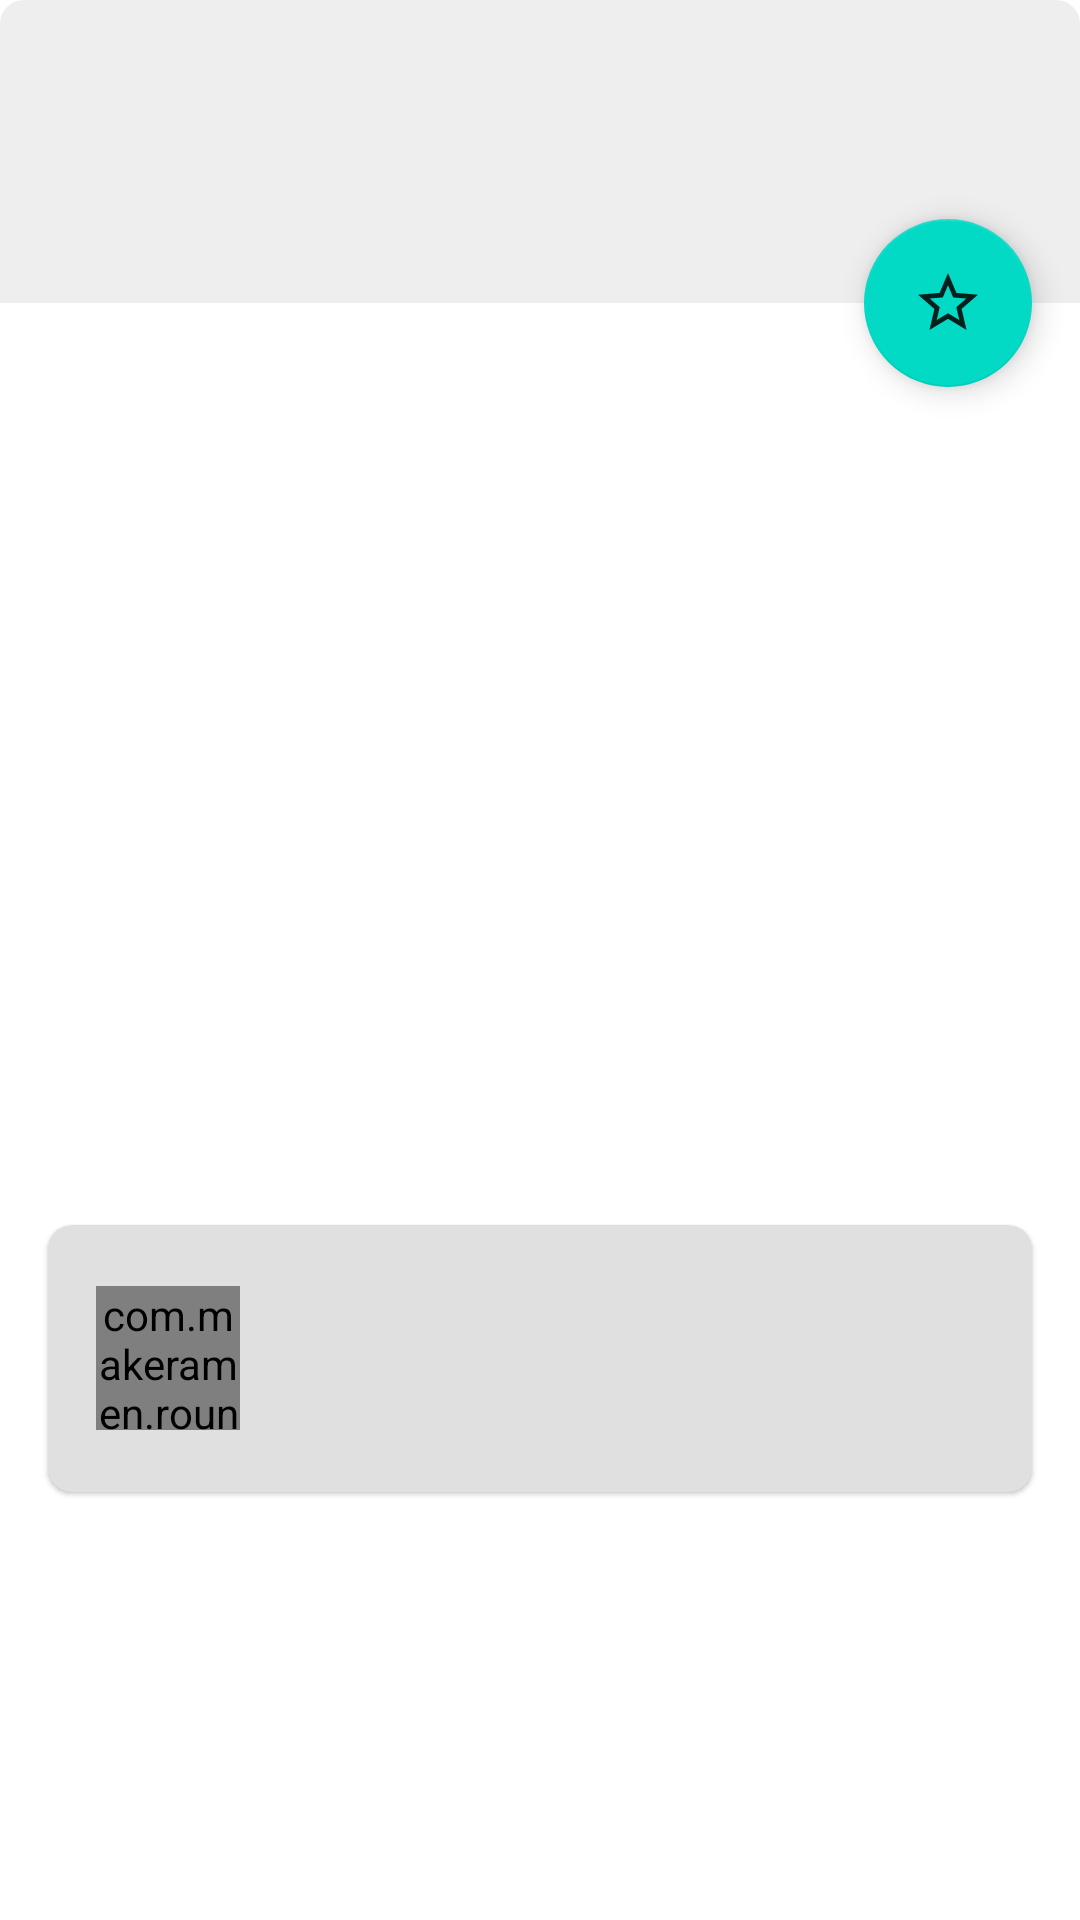

Screen size 1080px×1920px. Icon name, then its box in pixels as (x1,y1,x2,y2):
star border: (864,219,1032,387)
